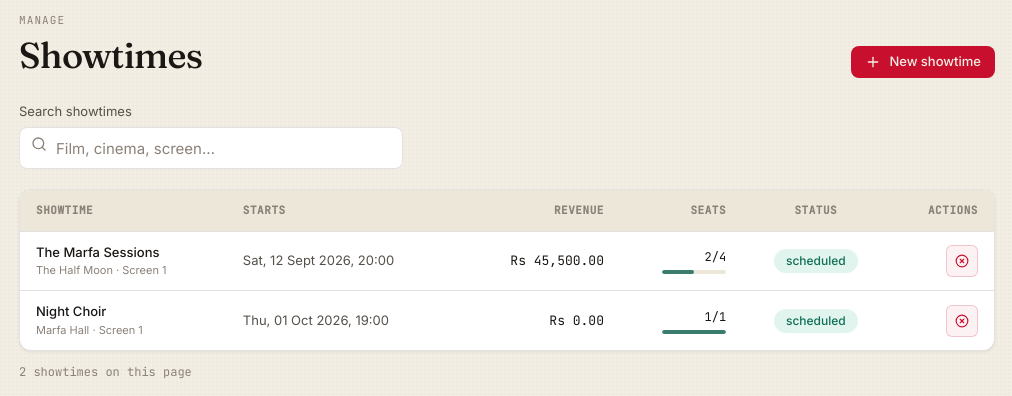
Test: AdminShowtimesPage › lists showtimes with a search filter
Expected: the text "The Marfa Sessions" is shown, [36, 244, 160, 260]
Expected: the text "Night Choir" is shown, [36, 303, 106, 319]
Type "The Marfa Sessions" into the field labelled "Search showtimes" at (211, 148), box [19, 127, 403, 169]
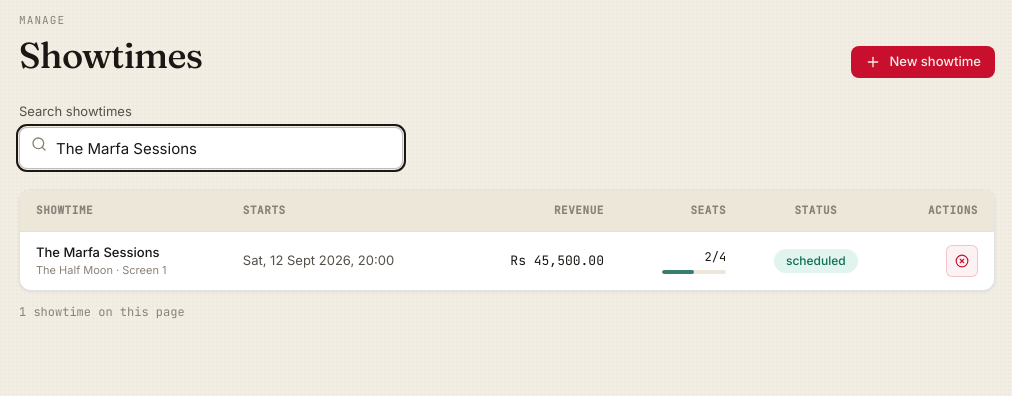
Expected: the text "The Marfa Sessions" is shown, [36, 244, 160, 260]
Result: the text "Night Choir" is gone
